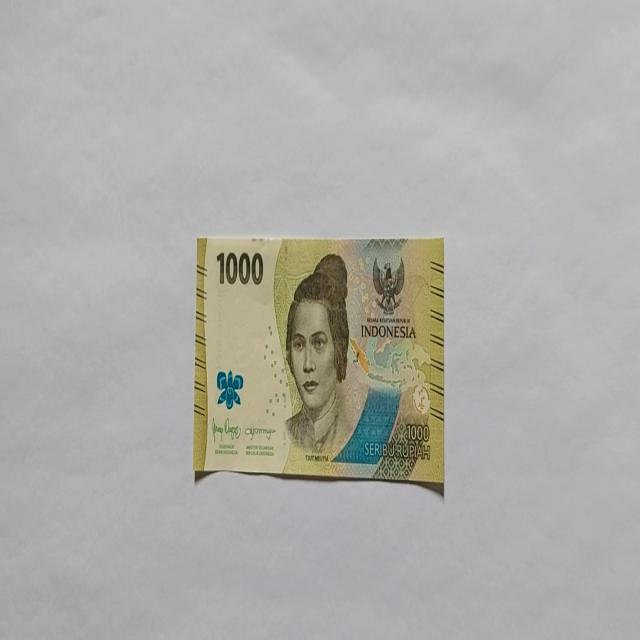seribu rupiah kertas: (192, 233, 444, 492)
